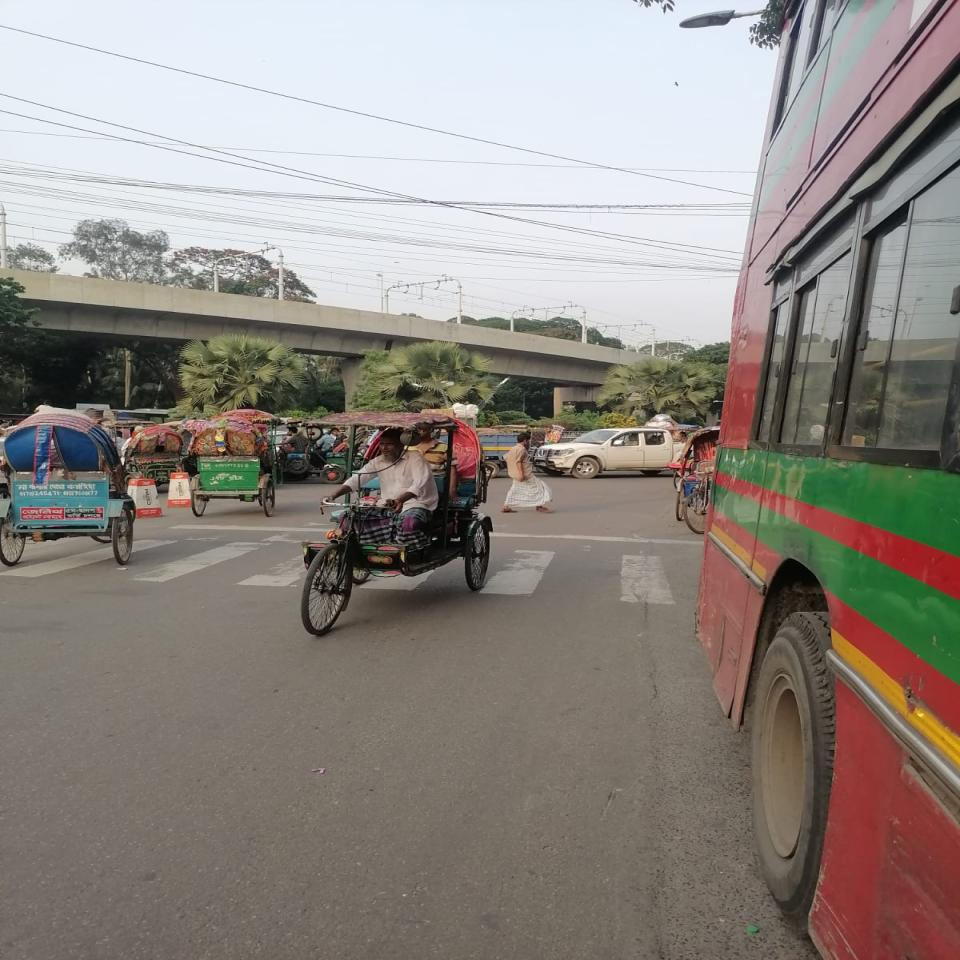person: (504, 433, 556, 517)
